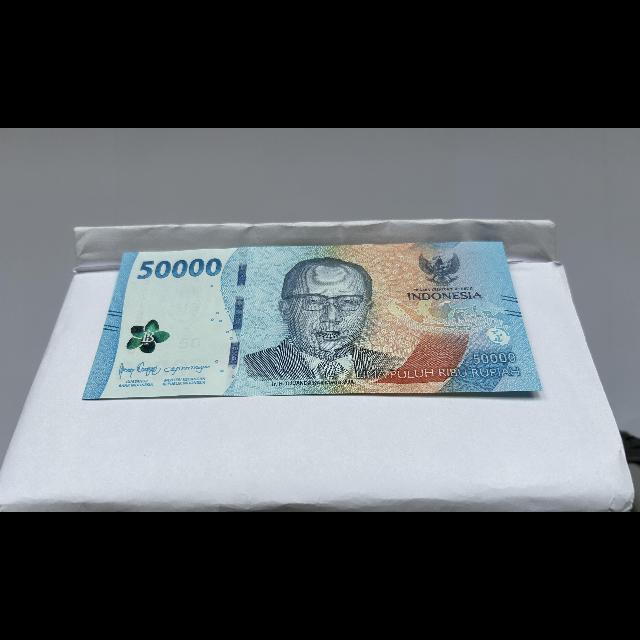Asli-50k: (77, 238, 546, 403)
Tinta-Asli-50k: (125, 314, 174, 360)
